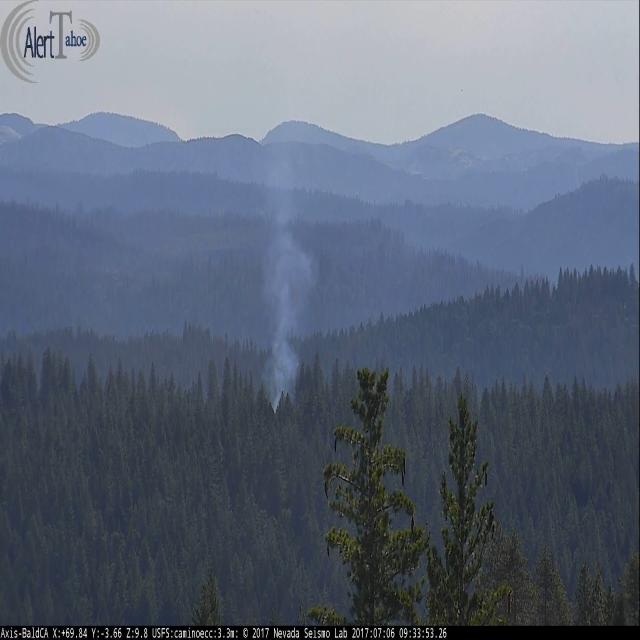smoke: (265, 165, 316, 416)
